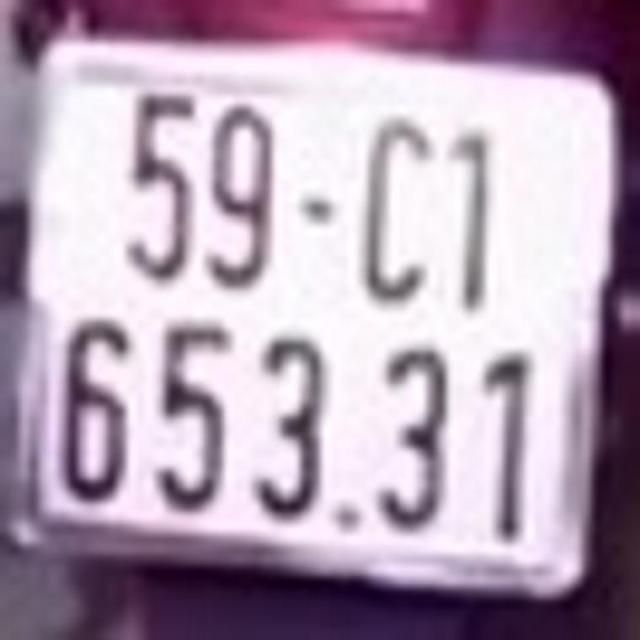1: (483, 354, 528, 537), (446, 130, 487, 313)
3: (261, 336, 323, 517), (383, 345, 444, 528)
5: (130, 94, 193, 278), (162, 326, 222, 508)
6: (66, 320, 130, 503)
9: (210, 103, 273, 290)
C: (364, 116, 433, 300)
